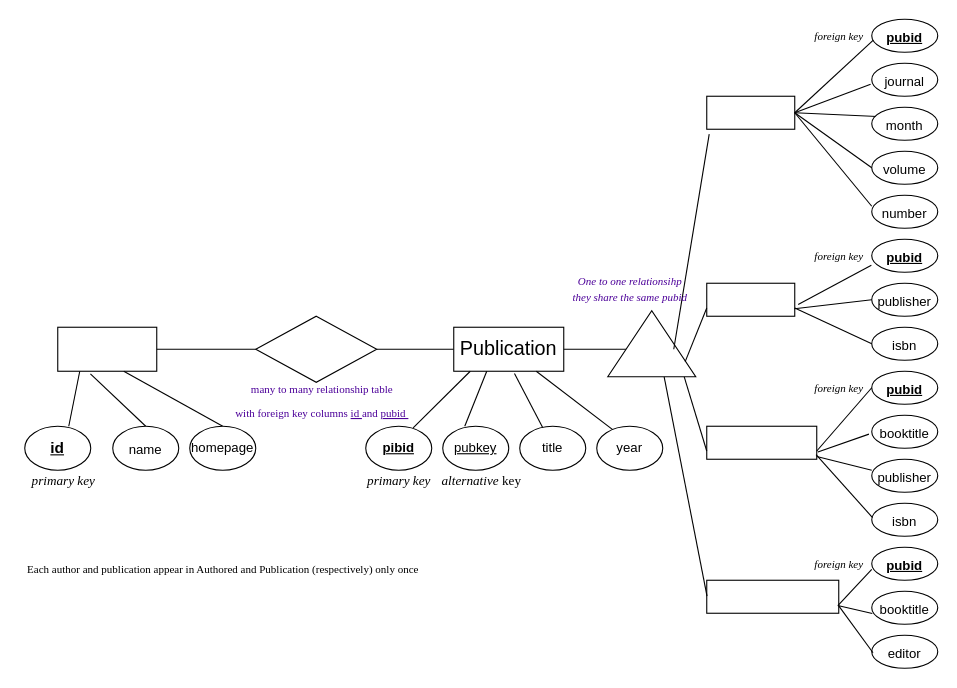
Some shapes in this 957 by 688 pixel diagram are drawn without their labels. The centre of each missing label's shape, as x and y in pixels:
"Article" goes at pixel 750 112.
"Author" goes at pixel 107 348.
"authored" goes at pixel 316 348.
"Book" goes at pixel 750 299.
"Incollection" goes at pixel 761 442.
"Inproceedings" goes at pixel 772 596.
"ISA" goes at pixel 651 343.
